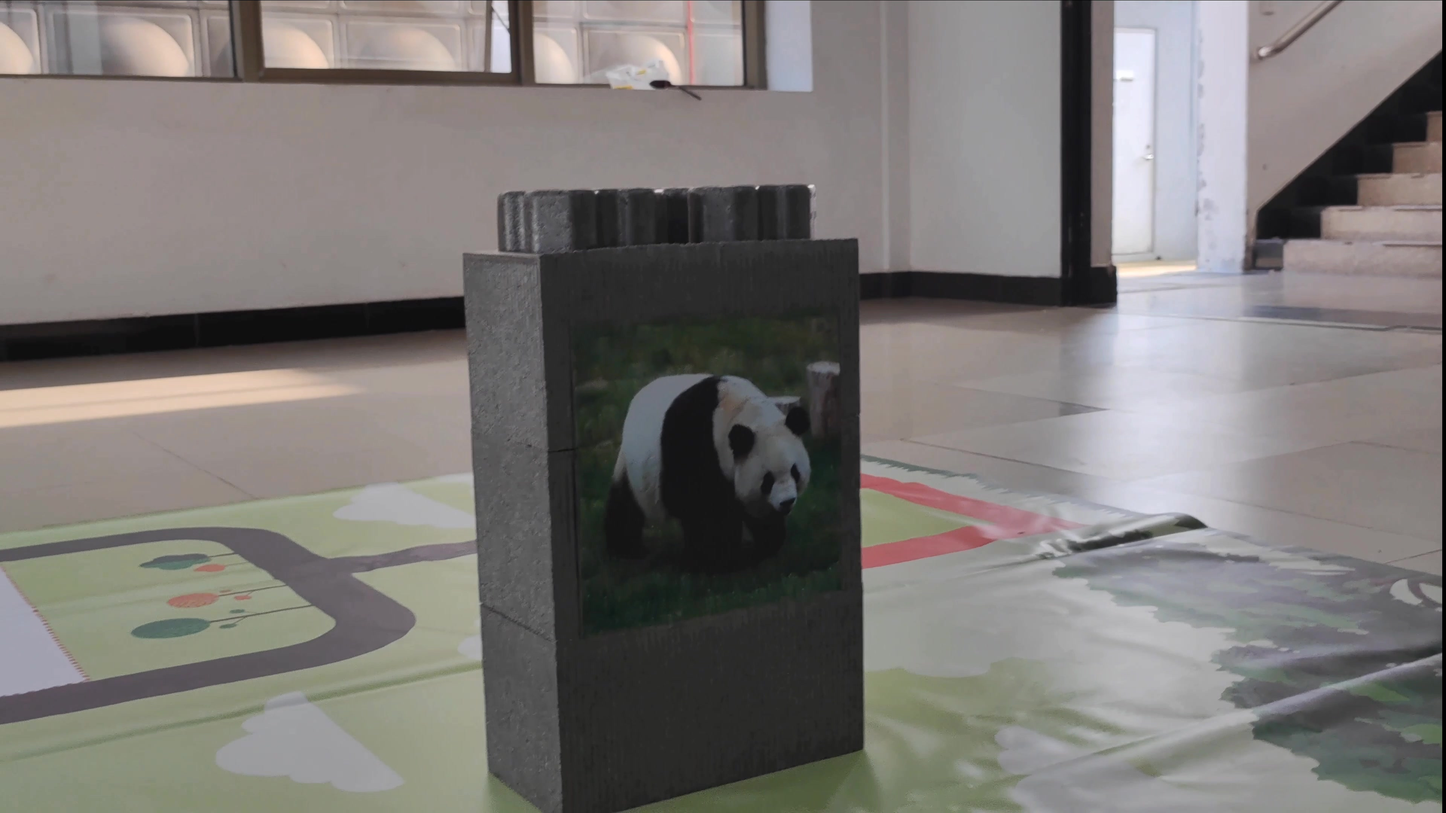panda: (583, 364, 825, 561)
